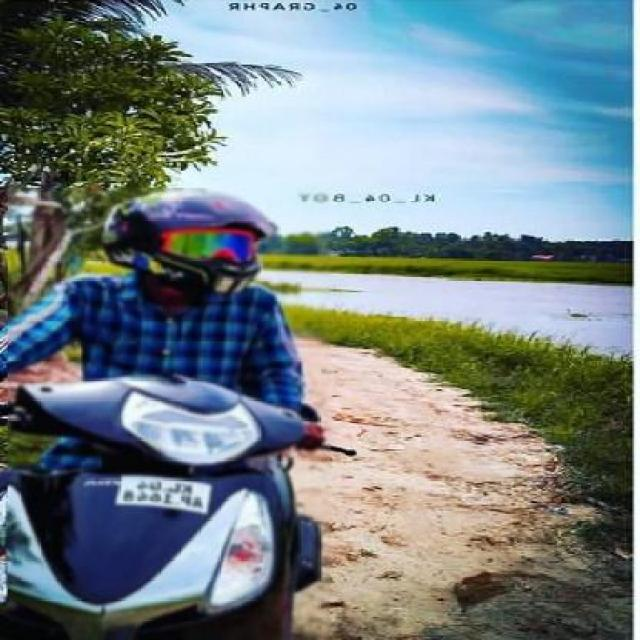helmet: (94, 174, 277, 325)
motorcycle: (2, 137, 443, 640)
